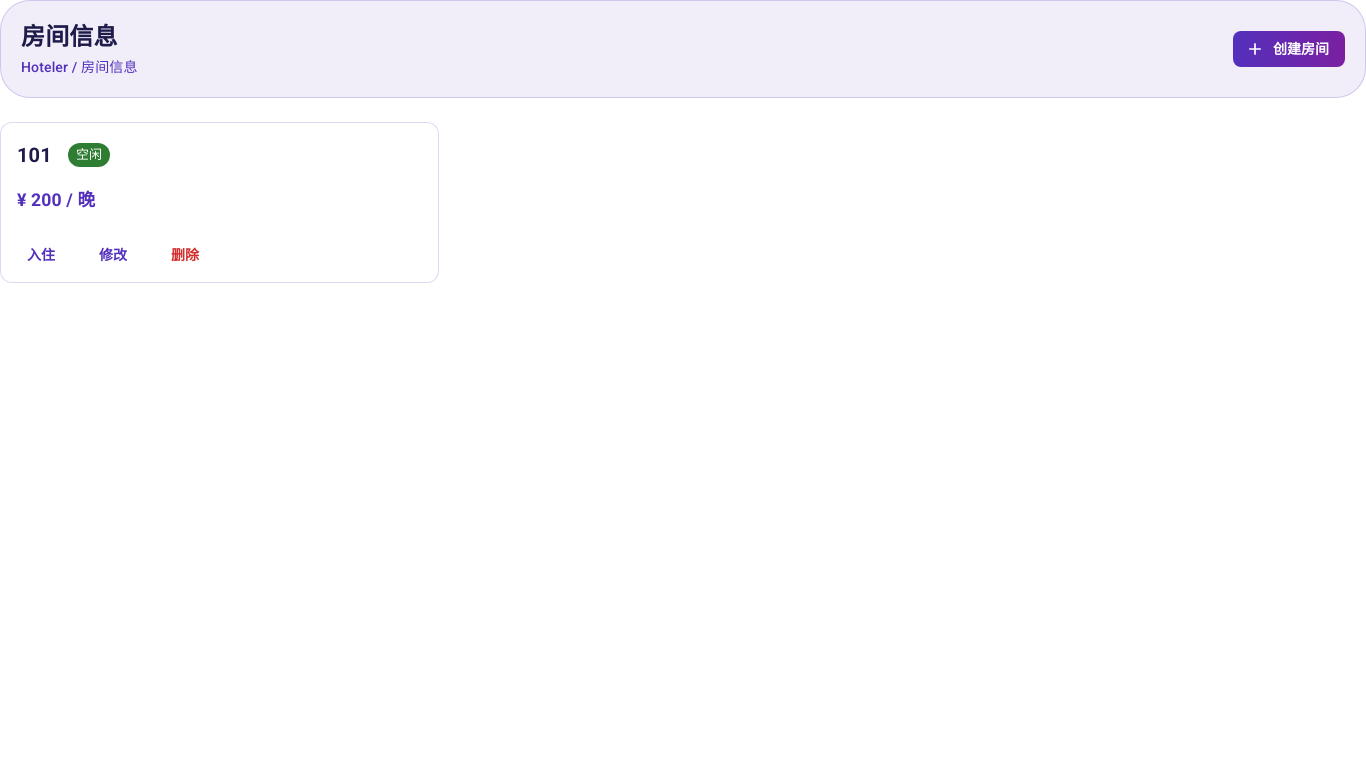
MUI migration workflows › validates room price and preserves a numeric price in the request
Click the button "创建房间" at (1289, 49), box [1233,31,1345,67]
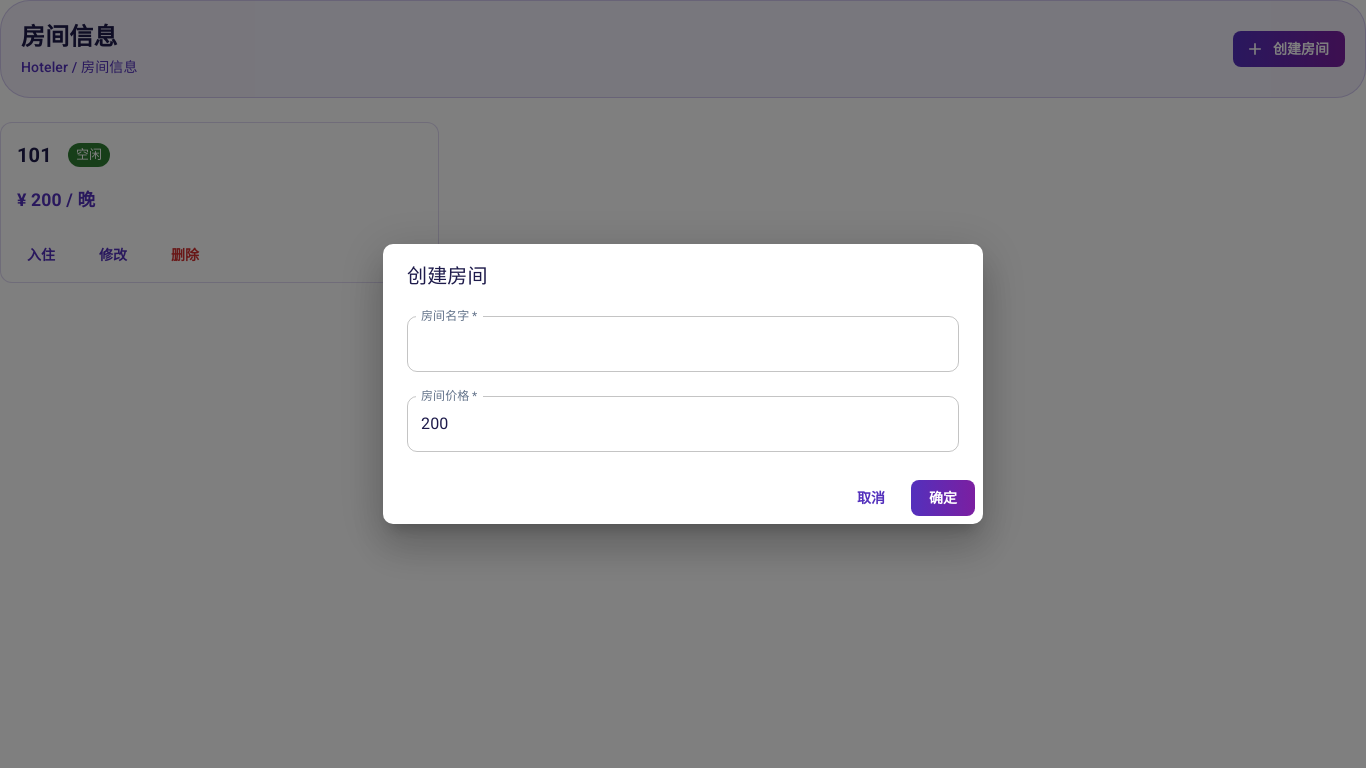
Type "102" into the field labelled "房间名字 *" at (683, 344), box [407,316,959,372]
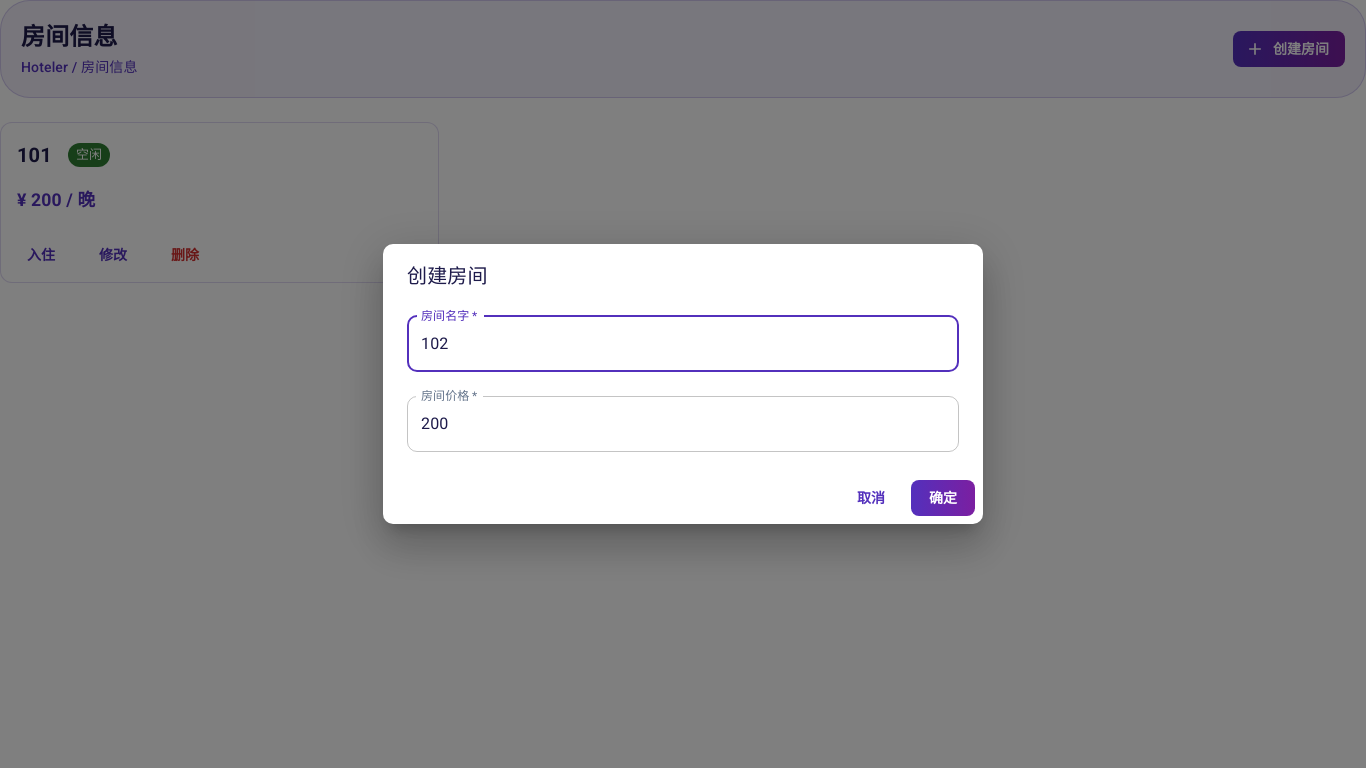
Replace the text in the number field labelled "房间价格 *" with "0" at (683, 424), box [407,396,959,452]
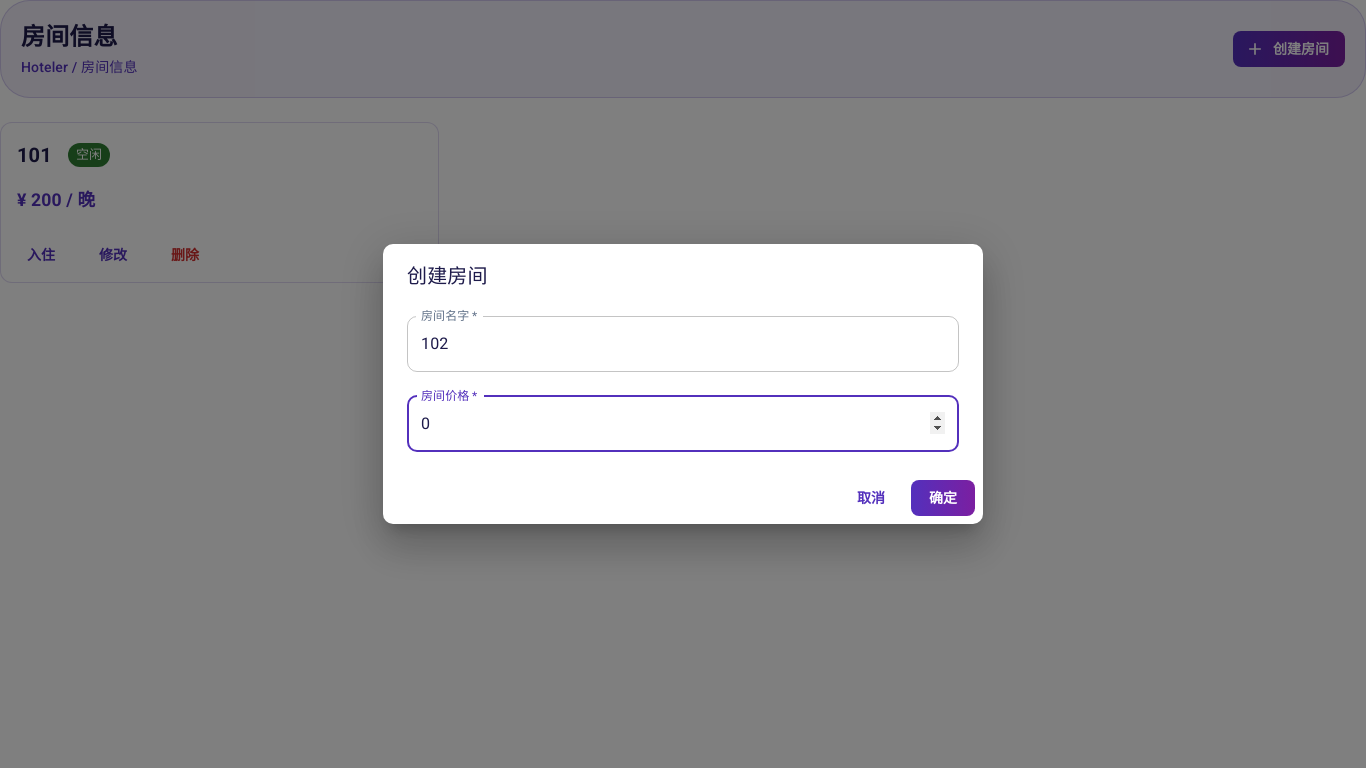
Click the button "确定" at (943, 498), box [911,480,975,516]
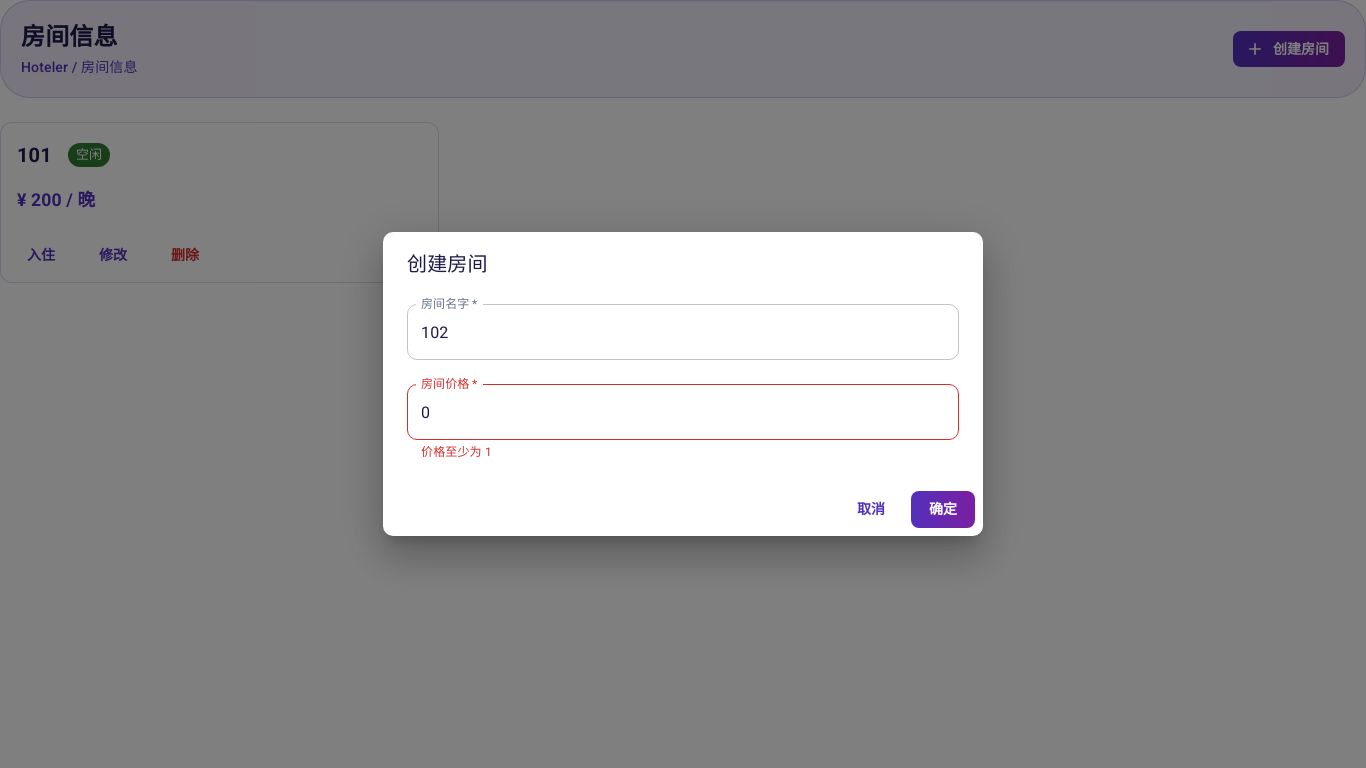
Result: the text "价格至少为 1" is shown at [421,445,492,459]
Replace the text in the number field labelled "房间价格 *" with "300" at (683, 412), box [407,384,959,440]
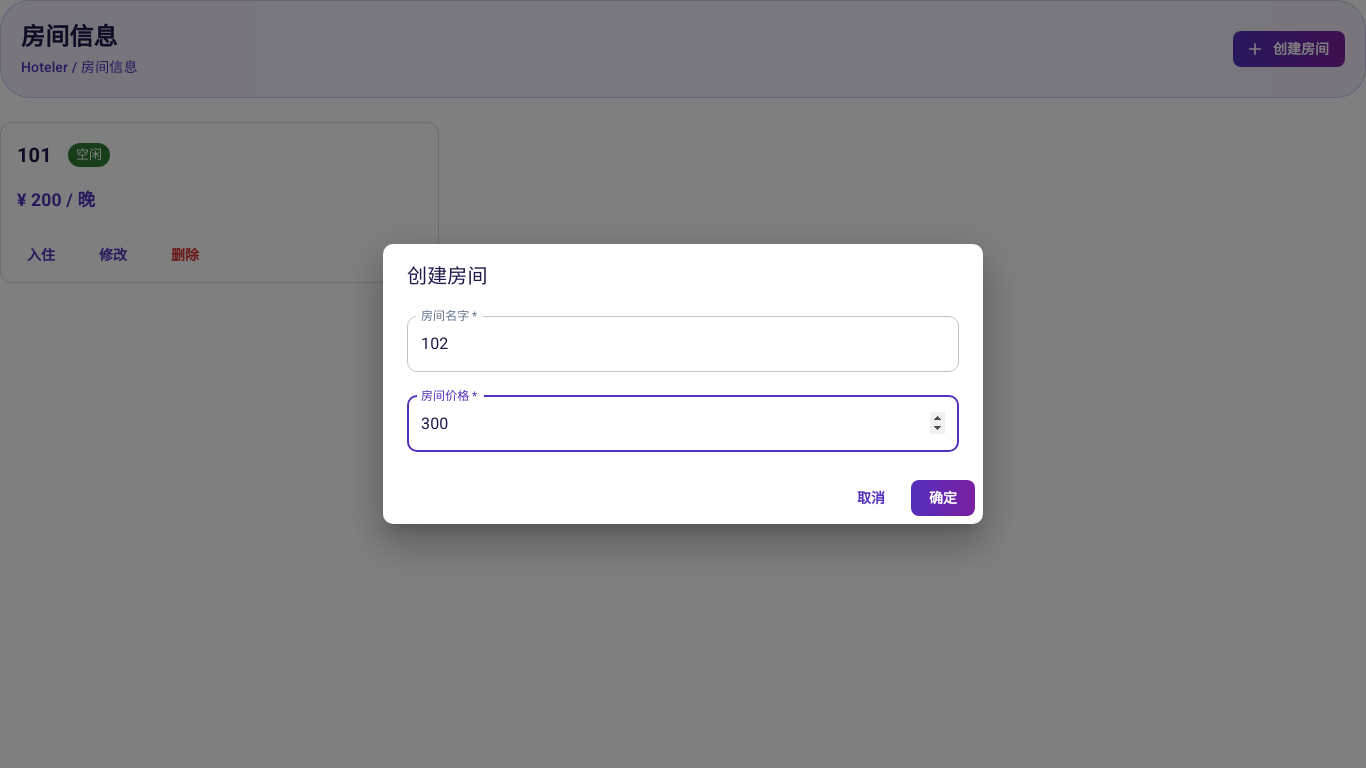
Click the button "确定" at (943, 498), box [911,480,975,516]
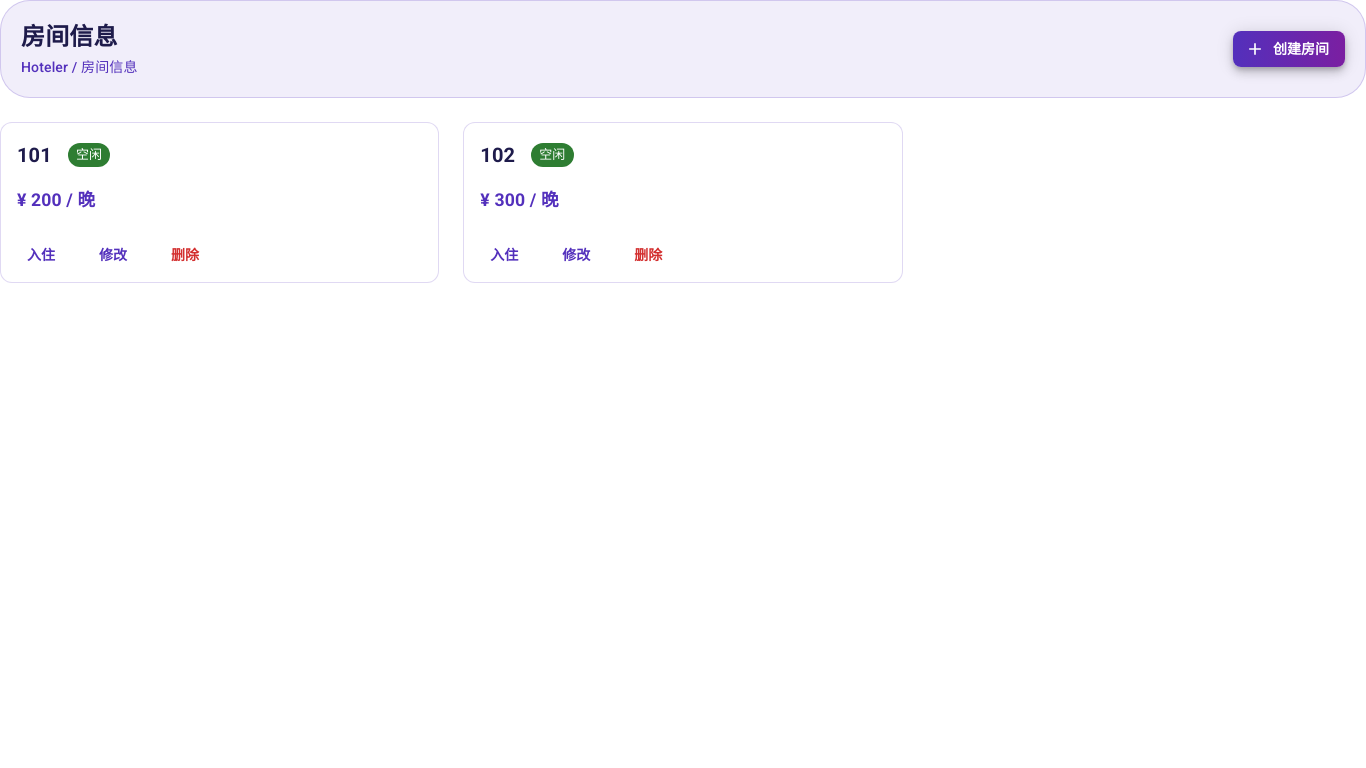
Result: the heading "102" is shown at [480,139,515,171]
